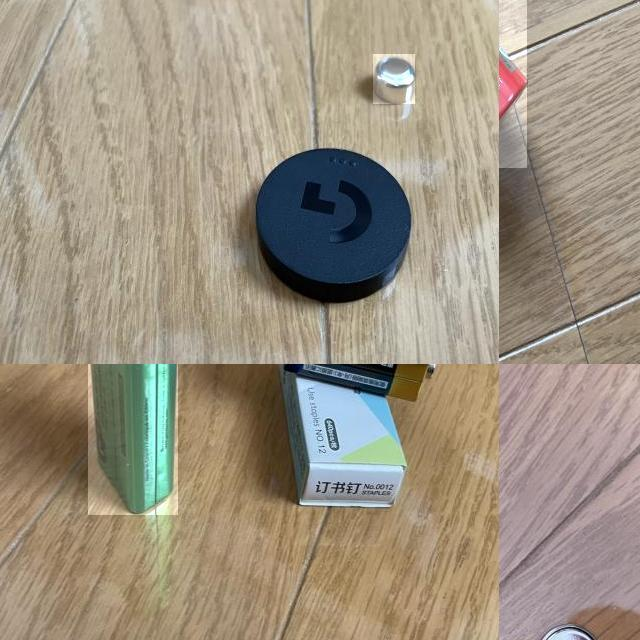9V: (88, 364, 178, 515), (283, 364, 436, 401)
